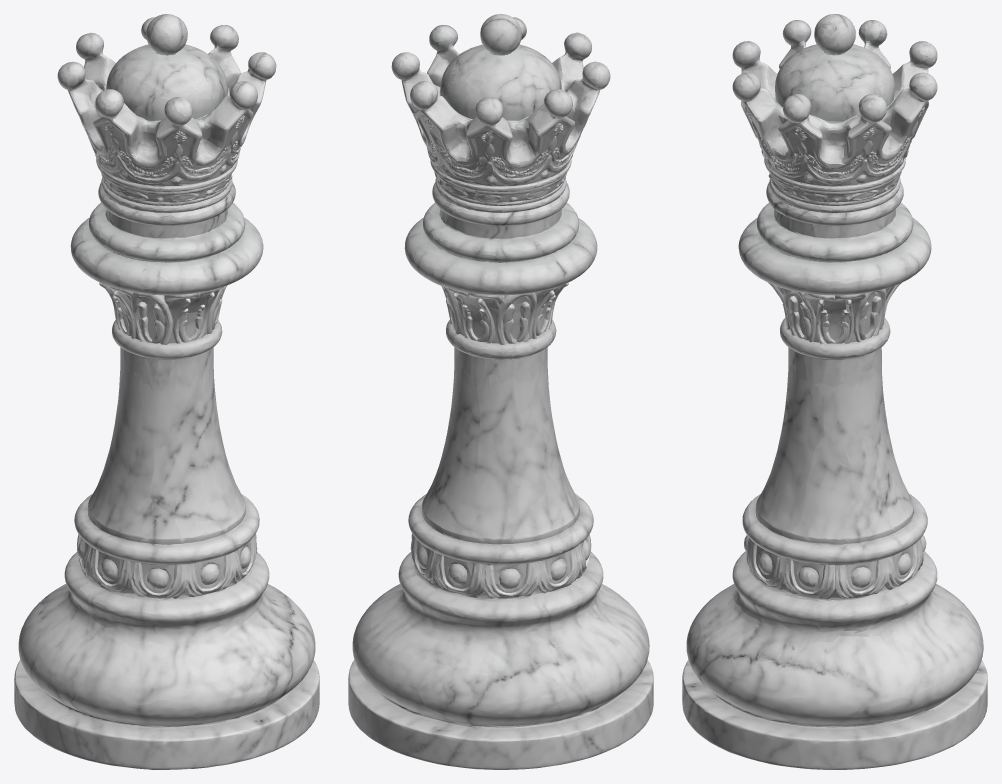
File: queen.glb
The picture shows the model from 3 angles, left to right: view 1: azimuth 30°, elevation 25°; view 2: azimuth 150°, elevation 25°; view 3: azimuth 270°, elevation 25°; orthographic projection.
Visible parts, largest first — view 1: Mesh_0; view 2: Mesh_0; view 3: Mesh_0.
Boxes of the visible parts, left/top/right/bottom form: Mesh_0: left=14, top=14, right=319, bottom=769; Mesh_0: left=348, top=14, right=653, bottom=769; Mesh_0: left=682, top=14, right=987, bottom=769.
Size of the model in its own units: 0.762 by 1.9 by 0.7618.
1 material, 1 textured.
